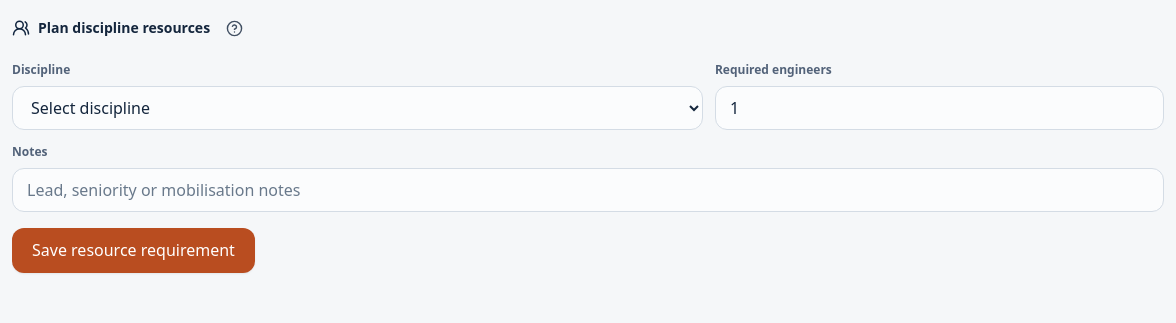
it: resource requirement editor › preserves selected discipline, count, optional notes and tenant scope when saving
The image size is (1176, 323).
Select "ELE — Electrical" in the dropdown labelled "Discipline" at (357, 108), box x1=12 y1=86 x2=703 y2=130
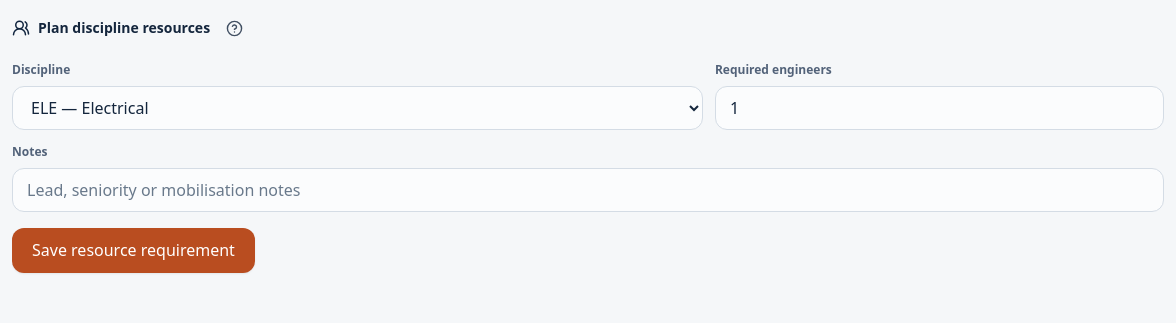
Replace the text in the number field labelled "Required engineers" with "4" at (939, 108), box x1=715 y1=86 x2=1164 y2=130
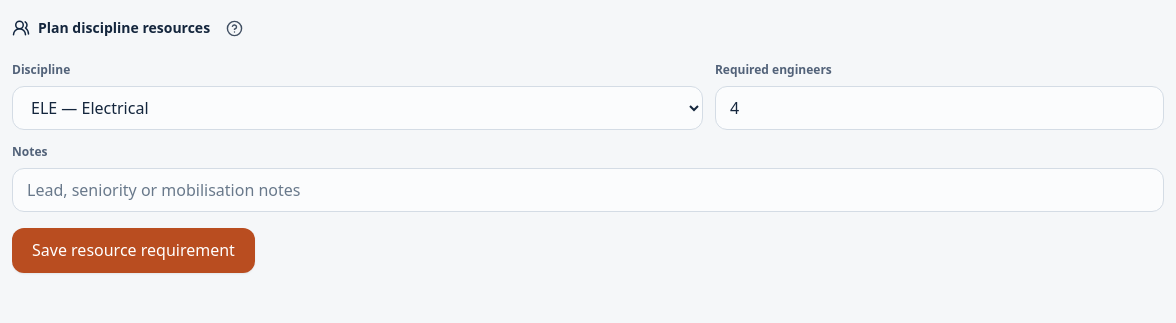
Type "Two senior engineers" into the field labelled "Notes" at (588, 190), box x1=12 y1=168 x2=1164 y2=212
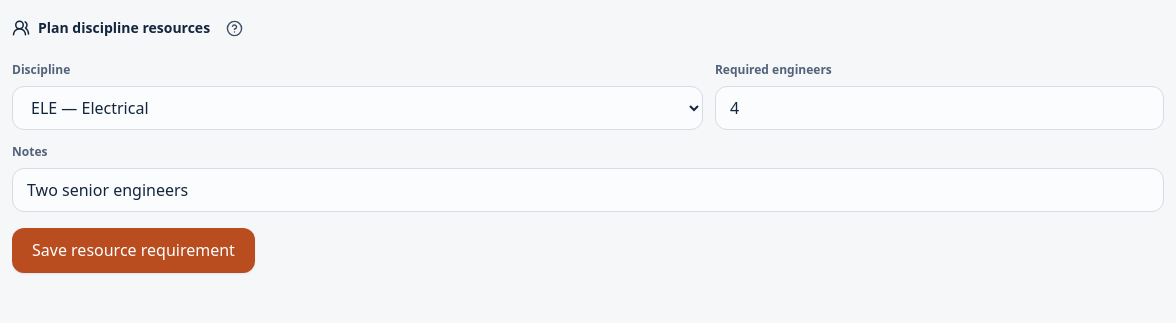
Submit the form "Plan discipline resources"
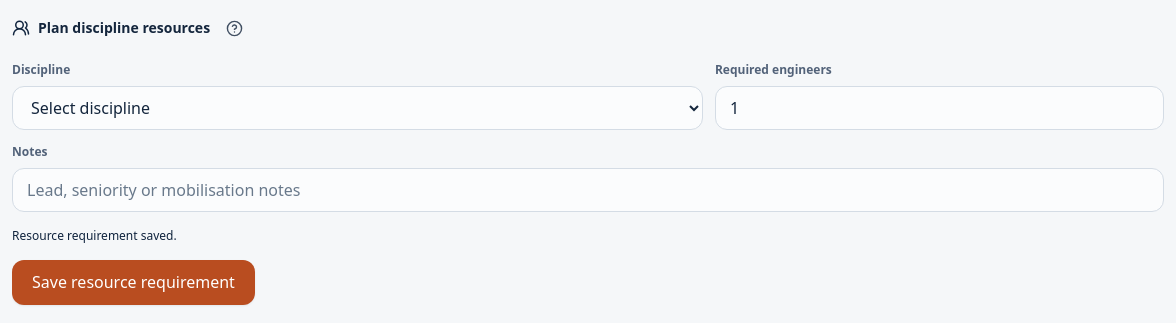
Expected: the message reads "Resource requirement saved.", x1=12 y1=227 x2=177 y2=244
